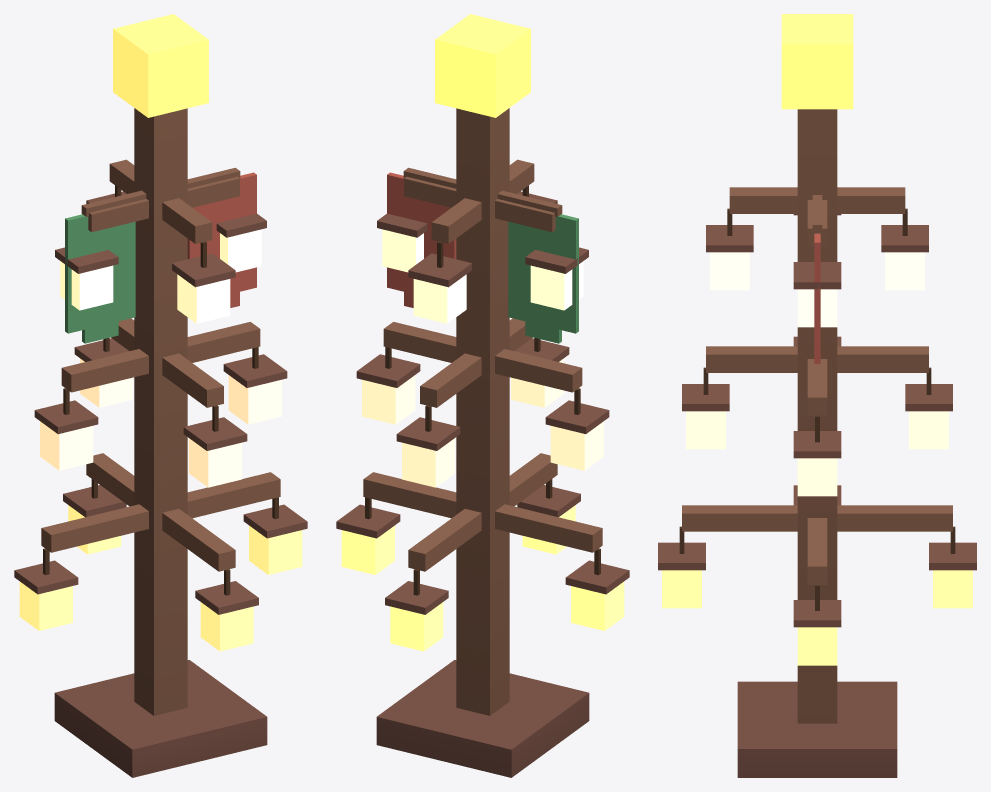
File: lantern-tower.glb
The picture shows the model from 3 angles, left to right: view 1: azimuth 30°, elevation 25°; view 2: azimuth 150°, elevation 25°; view 3: azimuth 270°, elevation 25°; orthographic projection. The views are drawn at different scales.
Parts seen in each view (by area): view 1: lantern-tower_body, lantern-tower_glow; view 2: lantern-tower_body, lantern-tower_glow; view 3: lantern-tower_body, lantern-tower_glow.
Boxes of the visible parts, x1,y1,x2,y2 form: lantern-tower_body: [14, 108, 307, 777]; lantern-tower_glow: [19, 14, 302, 651]; lantern-tower_body: [336, 108, 629, 777]; lantern-tower_glow: [341, 14, 624, 651]; lantern-tower_body: [658, 109, 976, 777]; lantern-tower_glow: [662, 14, 972, 665].
Bounding box in the file's own units: 4 × 9.9 × 4.
